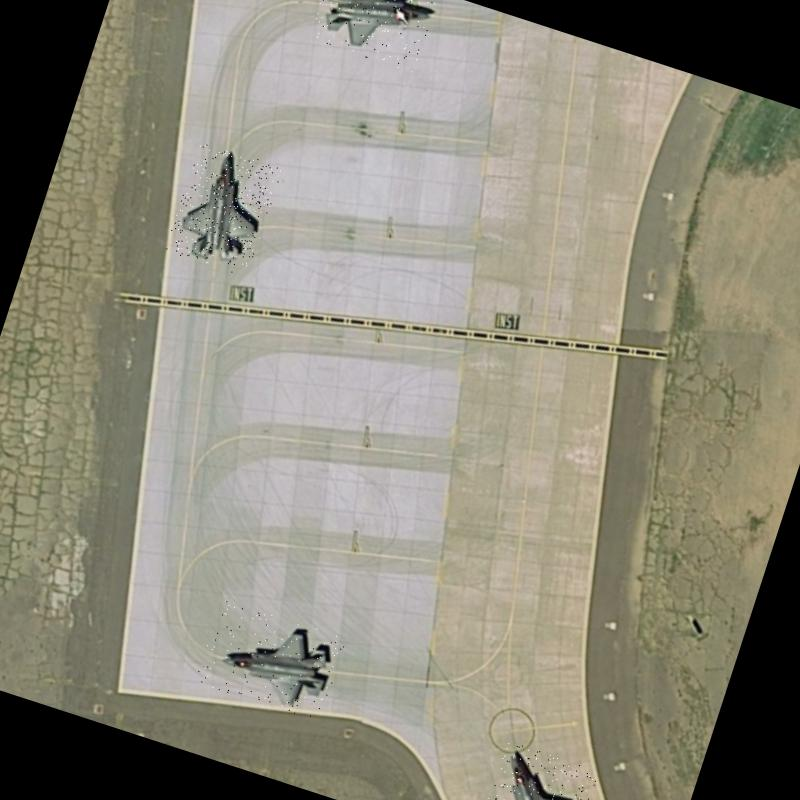A15: (192, 598, 349, 724), (165, 140, 284, 278), (308, 0, 440, 73), (474, 740, 599, 800)
